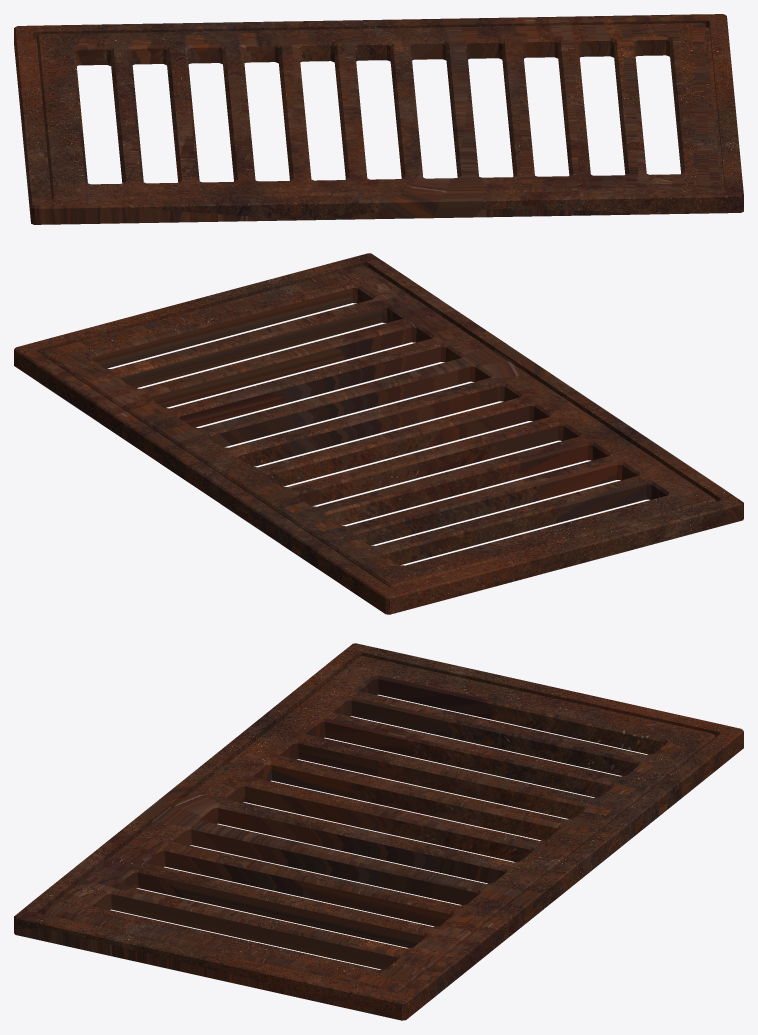
File: trench3.glb
3 views of the same model, one above another, from view 1: azimuth 30°, elevation 25°; view 2: azimuth 150°, elevation 25°; view 3: azimuth 270°, elevation 25° (orthographic). The views are drawn at different scales.
Visible parts, largest first — view 1: Drain_Drain_shader_0; view 2: Drain_Drain_shader_0; view 3: Drain_Drain_shader_0.
Part boxes in pixels (left/top/right/bottom): Drain_Drain_shader_0: left=14, top=14, right=743, bottom=224; Drain_Drain_shader_0: left=14, top=253, right=743, bottom=614; Drain_Drain_shader_0: left=14, top=643, right=743, bottom=1020.
Size of the model in its own units: 1.3 by 0.0302 by 1.11.
Materials: 1 (1 with a texture image).
